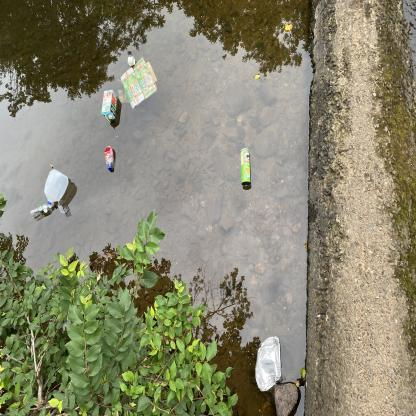trash: (113, 52, 161, 110), (249, 330, 286, 398), (42, 166, 73, 209), (237, 145, 258, 190), (98, 87, 121, 124), (101, 138, 121, 174), (28, 201, 55, 220)
